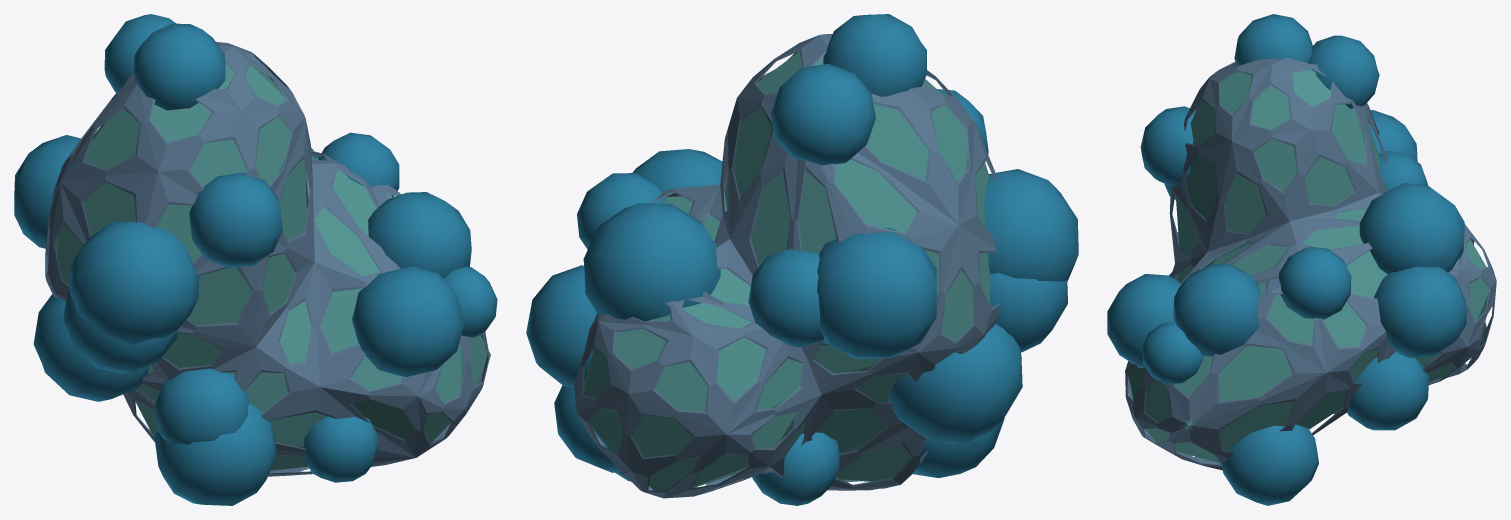
The model's file is glueBush12.fbx.
The picture shows the model from 3 angles, left to right: view 1: azimuth 30°, elevation 25°; view 2: azimuth 150°, elevation 25°; view 3: azimuth 270°, elevation 25°; orthographic projection. The views are drawn at different scales.
Parts seen in each view (by area): view 1: Mball.006; view 2: Mball.006; view 3: Mball.006.
Part boxes in pixels (x1,y1,x2,y2): Mball.006: (14, 14, 497, 505); Mball.006: (526, 14, 1078, 505); Mball.006: (1107, 14, 1496, 505).
Bounding box in the file's own units: 256 × 287 × 255.
